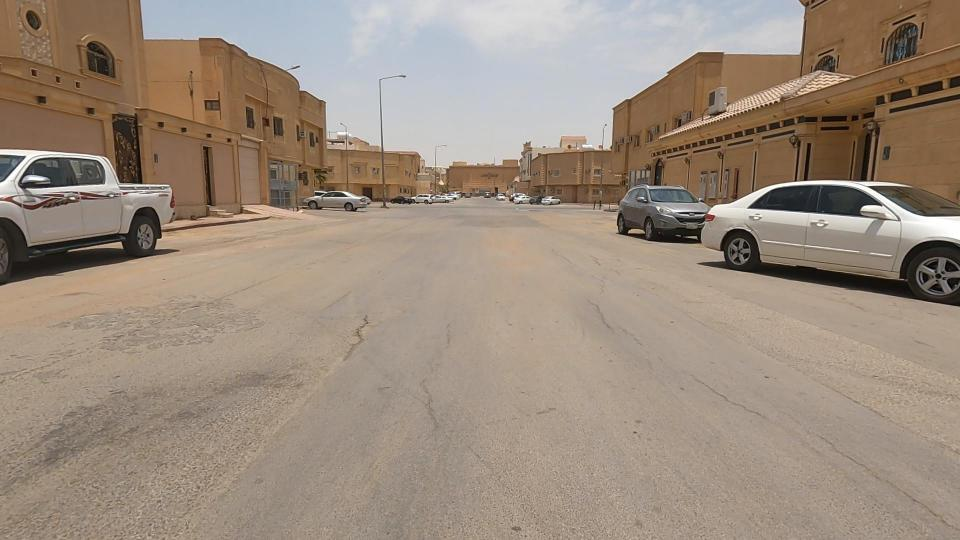POTHOLES: (293, 257, 425, 407)
